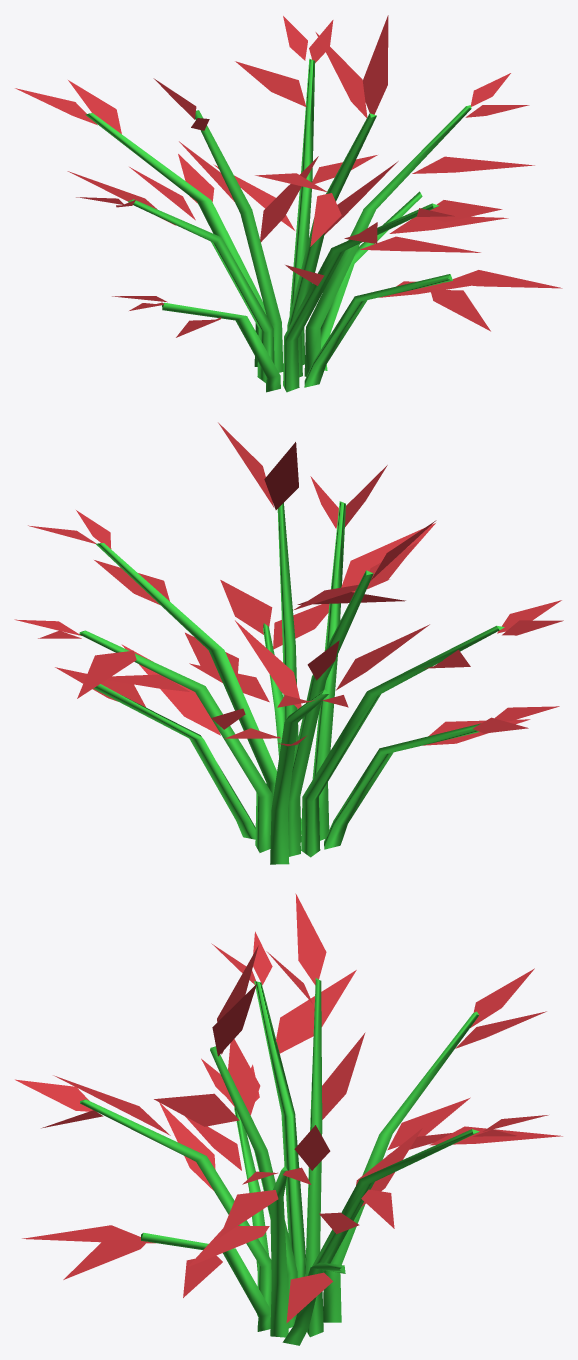
Rendered from pflanze05.FBX.
3 renders of one model, top to bottom at view 1: azimuth 30°, elevation 25°; view 2: azimuth 150°, elevation 25°; view 3: azimuth 270°, elevation 25°, orthographic. The views are drawn at different scales.
Visible parts, largest first — view 1: pflanze05; view 2: pflanze05; view 3: pflanze05.
Boxes of the visible parts, x1,y1,x2,y2 form: pflanze05: [15, 15, 562, 392]; pflanze05: [14, 422, 563, 864]; pflanze05: [15, 893, 562, 1345].
Bounding box in the file's own units: 20.53 × 14.99 × 19.39.
